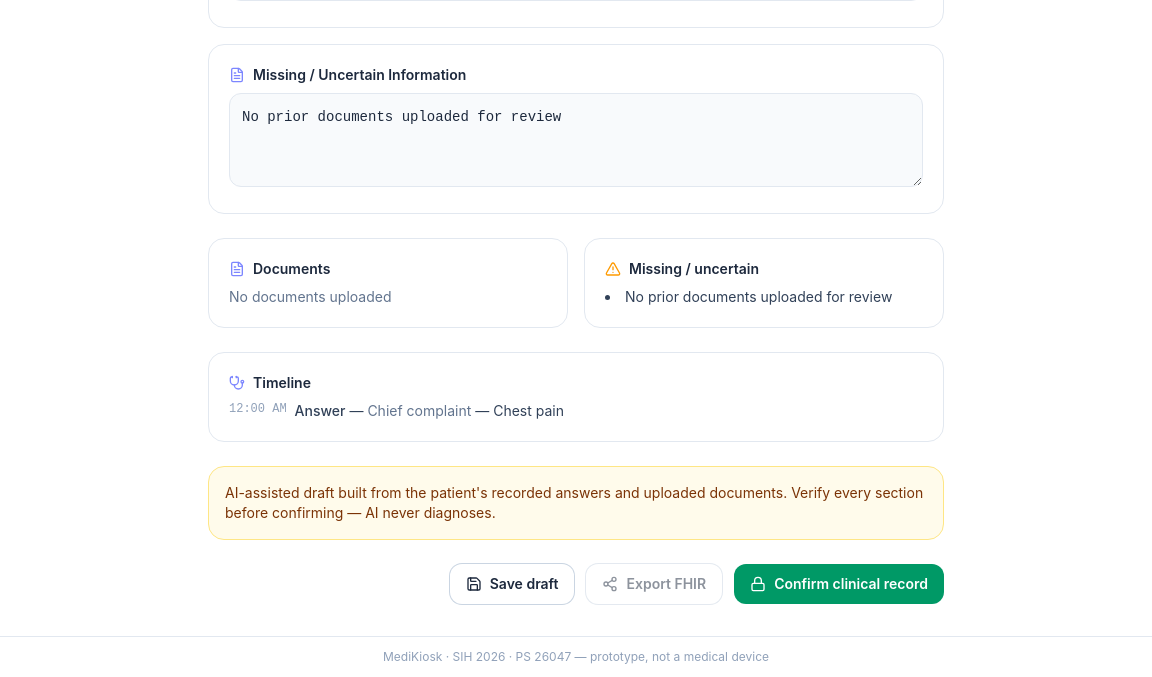
it: physician case review › exports the confirmed case as a FHIR R4 Bundle
(page scrolled)
Click the button "Confirm clinical record" at x=839, y=584, box [734, 564, 944, 604]
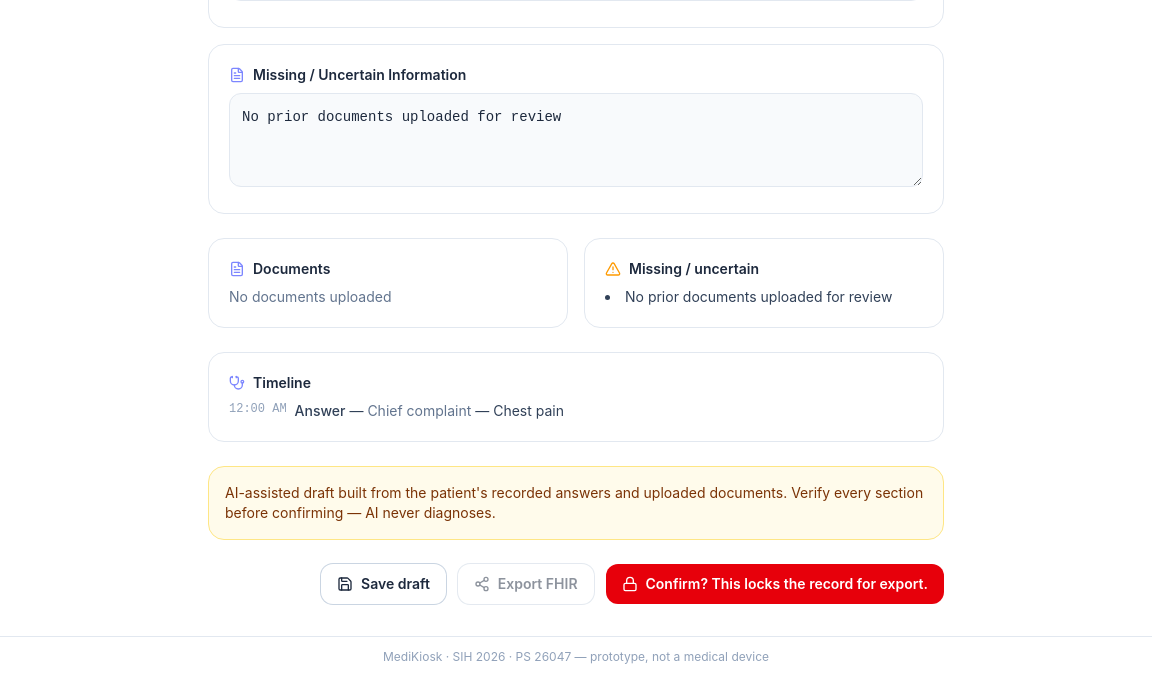
Click the button "Confirm? This locks the record for export." at x=775, y=584, box [606, 564, 944, 604]
(page scrolled)
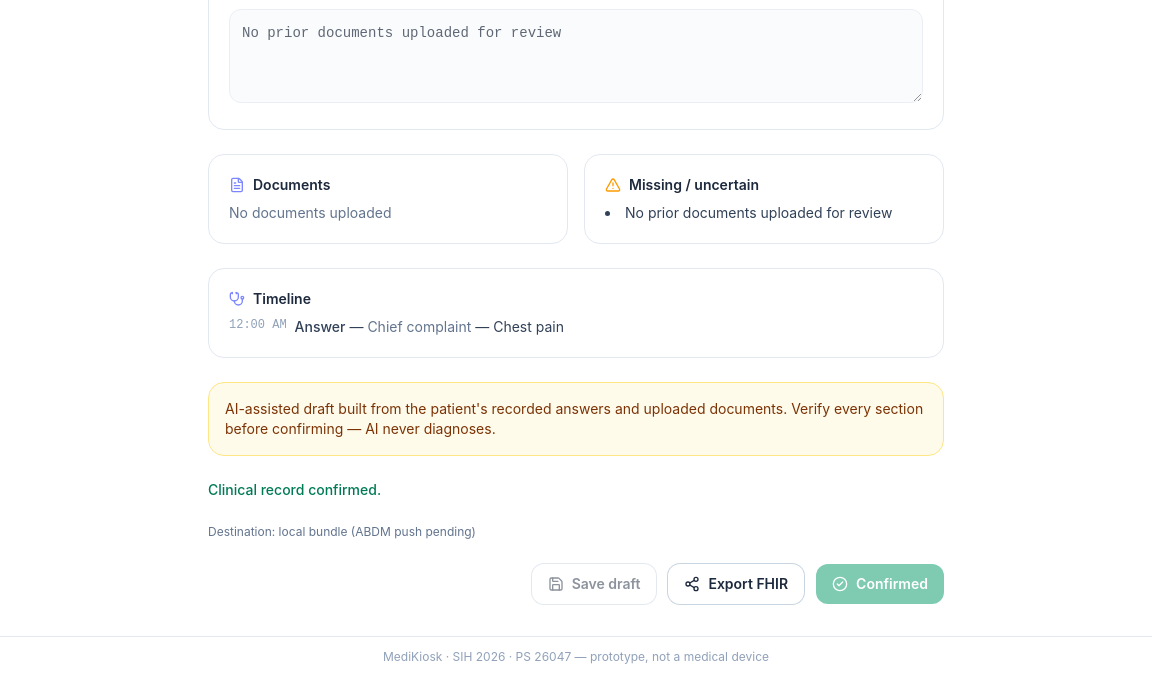
Expected: the button "Export FHIR" is enabled
// Export unlocks once the case status flips to confirmed.
Click the button "Export FHIR" at x=736, y=584, box [668, 564, 804, 604]
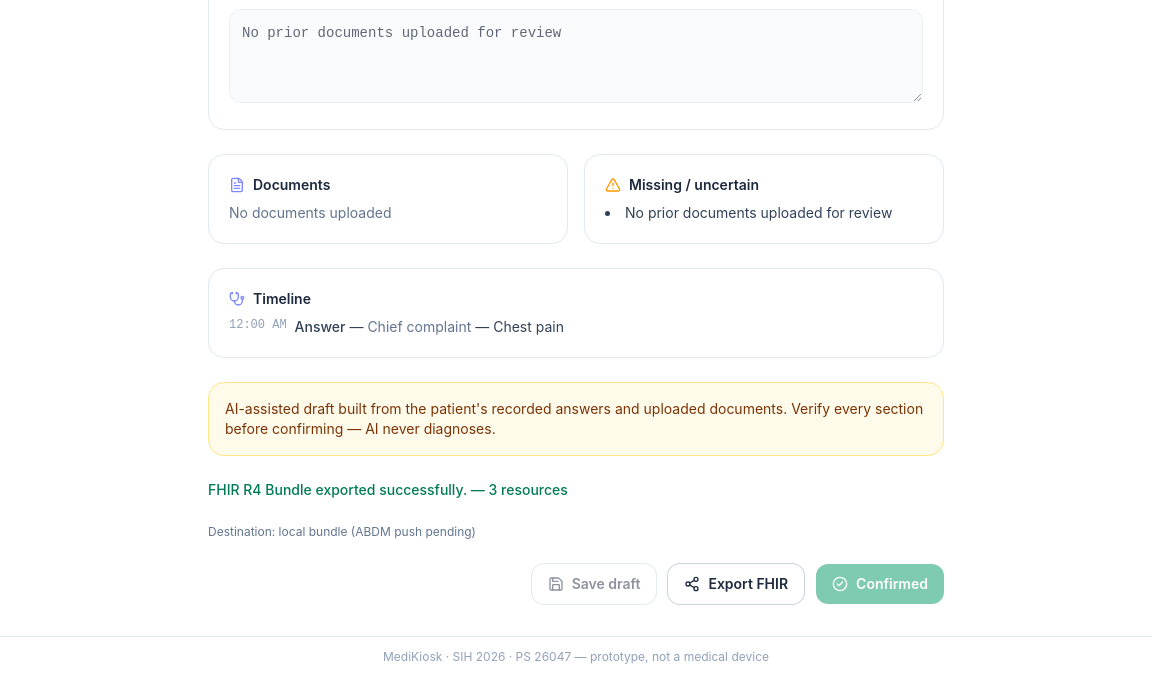
Expected: the text "FHIR R4 Bundle exported successfully. — 3 resources" is shown, [208, 481, 568, 498]
